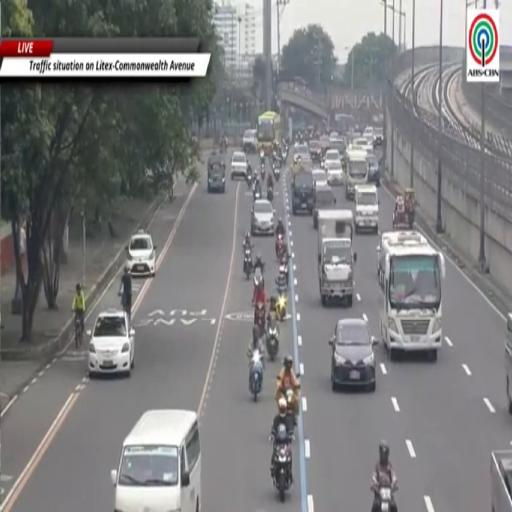bus: (379, 237, 445, 360), (258, 111, 282, 154), (334, 114, 354, 136)
car: (330, 318, 377, 391), (87, 309, 134, 377), (126, 230, 156, 277), (355, 185, 378, 233), (313, 183, 336, 229), (292, 170, 314, 215), (251, 199, 275, 235), (208, 165, 225, 193), (325, 161, 344, 186), (231, 152, 247, 180), (367, 155, 380, 186), (351, 137, 373, 154), (311, 168, 328, 188), (308, 140, 322, 164), (243, 130, 257, 153), (294, 144, 310, 163), (330, 138, 345, 155), (325, 150, 341, 165), (363, 126, 374, 145), (319, 135, 329, 154), (374, 127, 383, 147), (330, 132, 339, 142)
motorcycle: (270, 425, 292, 502), (249, 349, 263, 402), (375, 482, 397, 511), (266, 313, 279, 361), (285, 389, 296, 431), (276, 287, 287, 322), (378, 486, 392, 512), (392, 210, 409, 231), (244, 248, 252, 280), (279, 260, 288, 285), (276, 233, 284, 259), (254, 267, 263, 288), (253, 183, 261, 200), (246, 163, 253, 182), (267, 186, 274, 202), (273, 167, 280, 181), (261, 163, 265, 182)
truck: (318, 210, 356, 307), (376, 231, 428, 285), (490, 450, 512, 512), (505, 313, 511, 414), (505, 313, 511, 413)
